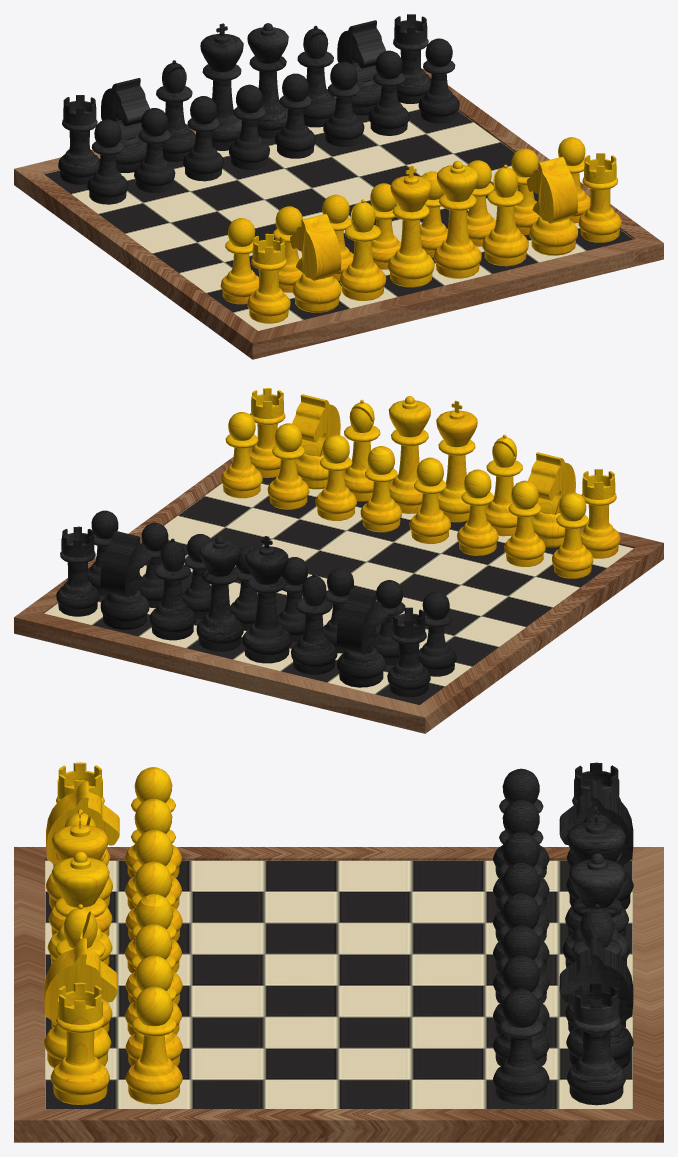
Rendered from xadrez.glb.
3 views of the same model, one above another, from view 1: azimuth 30°, elevation 25°; view 2: azimuth 150°, elevation 25°; view 3: azimuth 270°, elevation 25° (orthographic). The views are drawn at different scales.
Parts seen in each view (by area): view 1: Object_2, Object_9, Object_3, Object_4, Object_7, Object_6, Object_8, Object_5; view 2: Object_2, Object_9, Object_7, Object_6, Object_4, Object_3, Object_5, Object_8; view 3: Object_2, Object_9, Object_7, Object_4, Object_3, Object_6, Object_8, Object_5.
Part boxes in pixels (box(x1,y1,x2,y2)): Object_2: box(44, 102, 633, 330); Object_9: box(14, 69, 663, 359); Object_3: box(58, 15, 459, 204); Object_4: box(63, 14, 457, 203); Object_7: box(222, 137, 619, 312); Object_6: box(220, 153, 621, 323); Object_8: box(249, 153, 616, 322); Object_5: box(60, 14, 427, 183); Object_2: box(44, 477, 633, 704); Object_9: box(14, 446, 663, 733); Object_7: box(223, 388, 591, 577); Object_6: box(221, 388, 620, 578); Object_4: box(58, 510, 454, 687); Object_3: box(56, 527, 456, 697); Object_5: box(61, 526, 428, 696); Object_8: box(251, 388, 618, 557); Object_2: box(45, 860, 632, 1108); Object_9: box(14, 847, 663, 1142); Object_7: box(44, 767, 179, 1103); Object_4: box(495, 763, 633, 1104); Object_3: box(493, 764, 630, 1105); Object_6: box(47, 763, 182, 1104); Object_8: box(44, 762, 119, 1024); Object_5: box(560, 762, 633, 1024).
Bounding box in the file's own units: 159 × 49.62 × 160.
4 materials, 4 textured.
